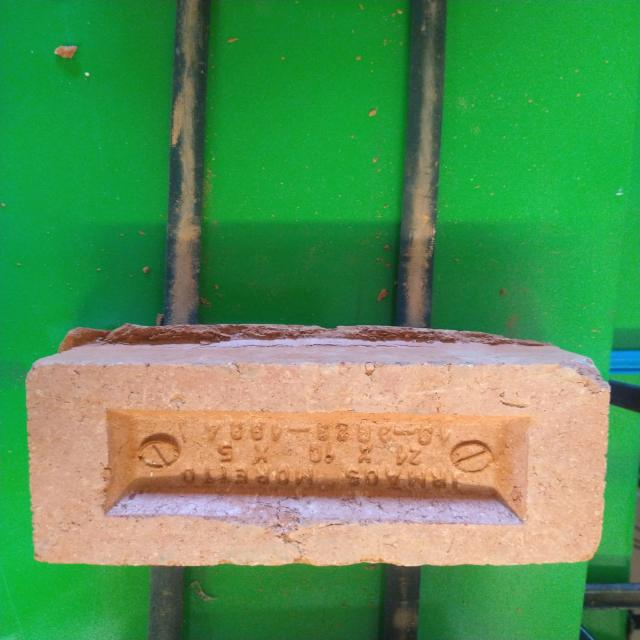bricks_ruin: (24, 323, 612, 568)
